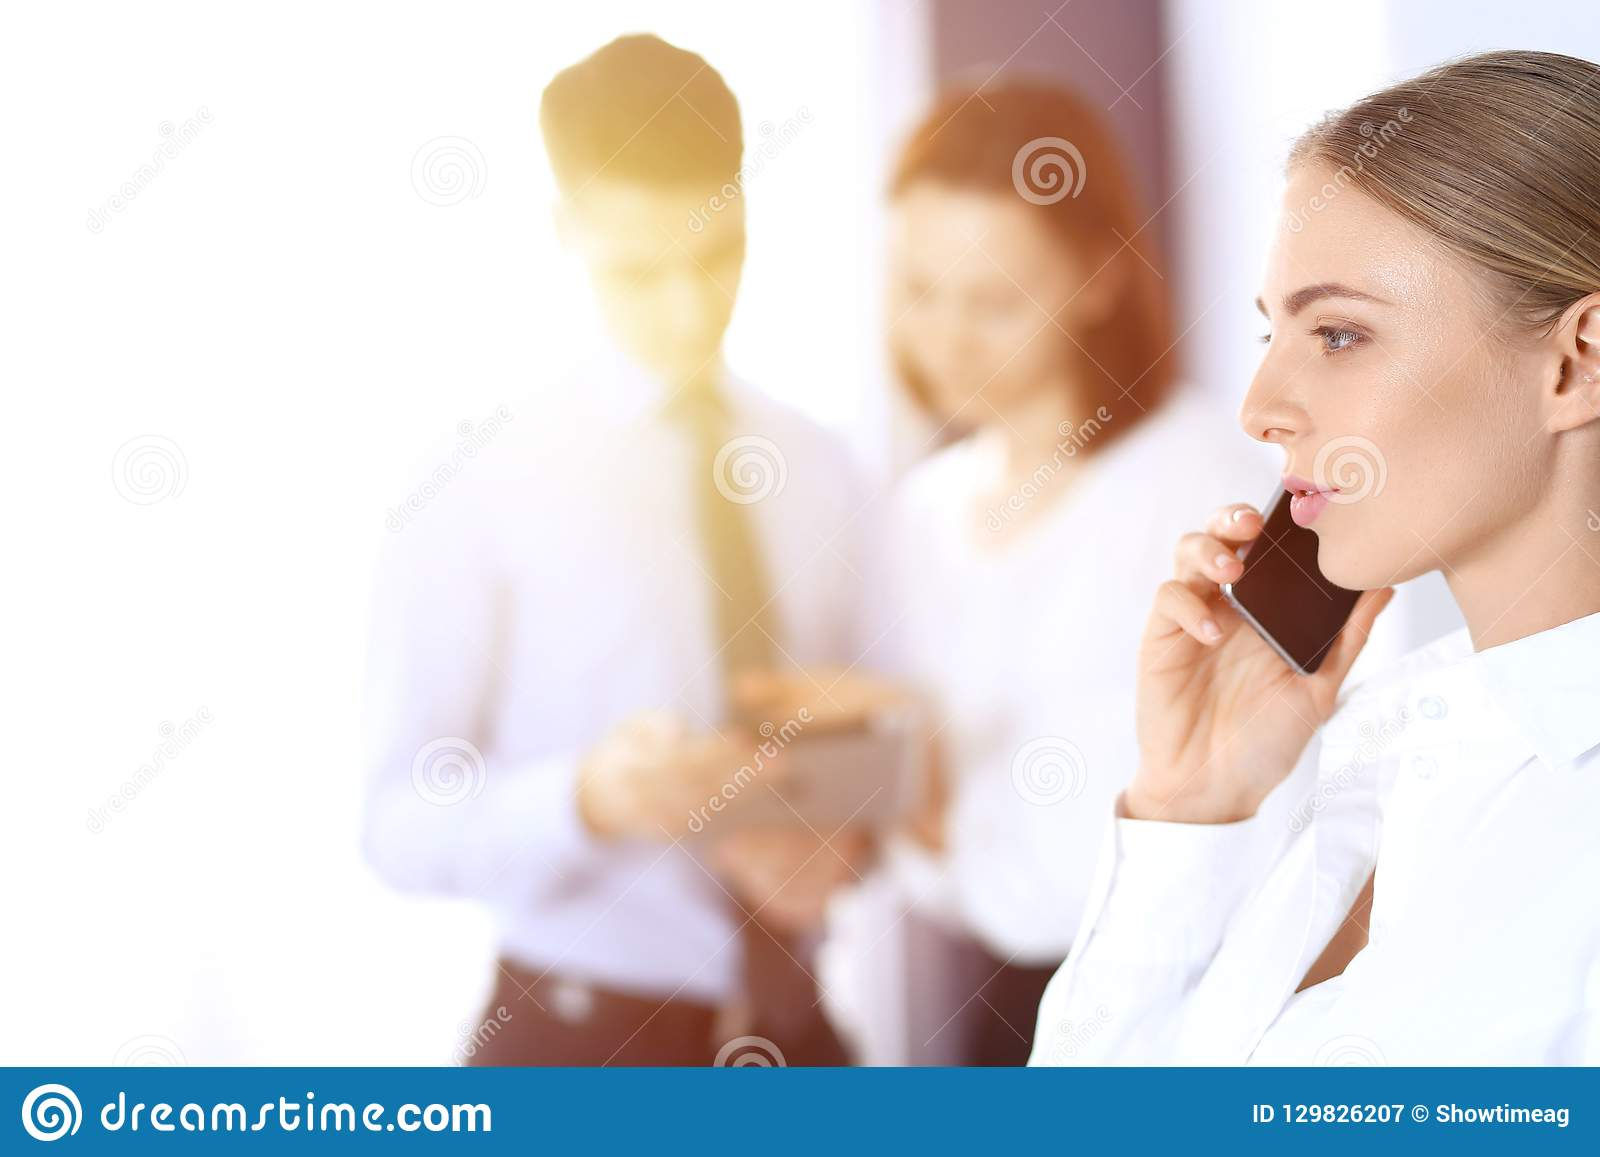phone: (1219, 473, 1369, 682)
talk: (1134, 268, 1411, 797)
